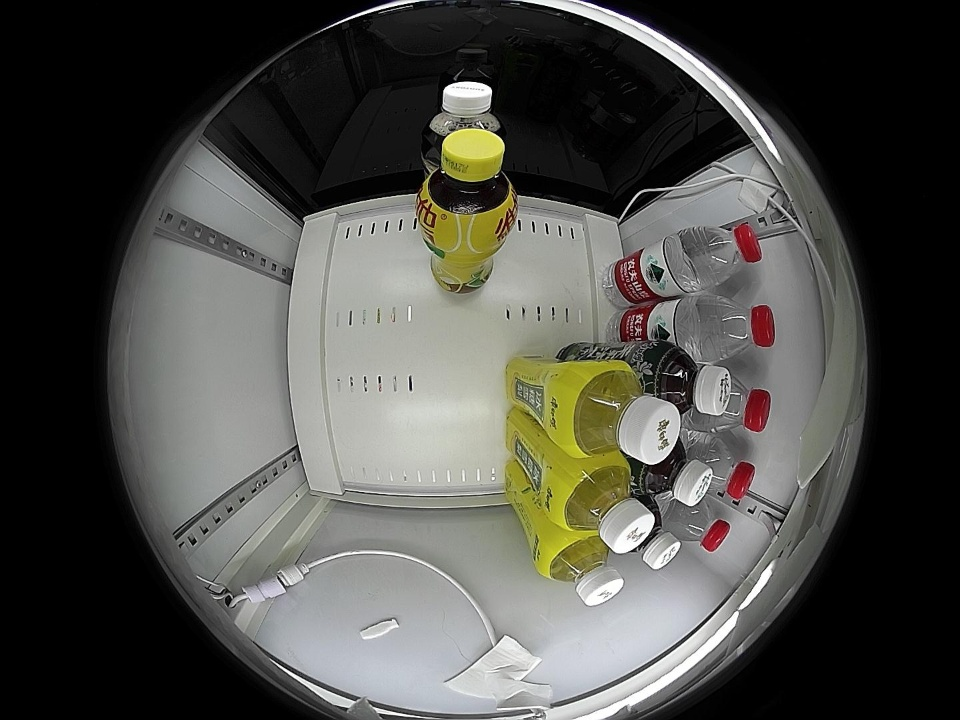bingtangxueli: (561, 360, 681, 464), (553, 457, 654, 553), (538, 533, 624, 607)
moliqingcha: (646, 342, 732, 417), (634, 440, 714, 506), (632, 493, 681, 570)
nongfushanquan: (702, 294, 776, 361), (689, 222, 763, 288), (707, 369, 772, 434), (698, 438, 756, 503), (670, 498, 731, 554)
weitaningmeng-bottle: (418, 129, 518, 231)
wulongcha: (421, 80, 503, 148)
